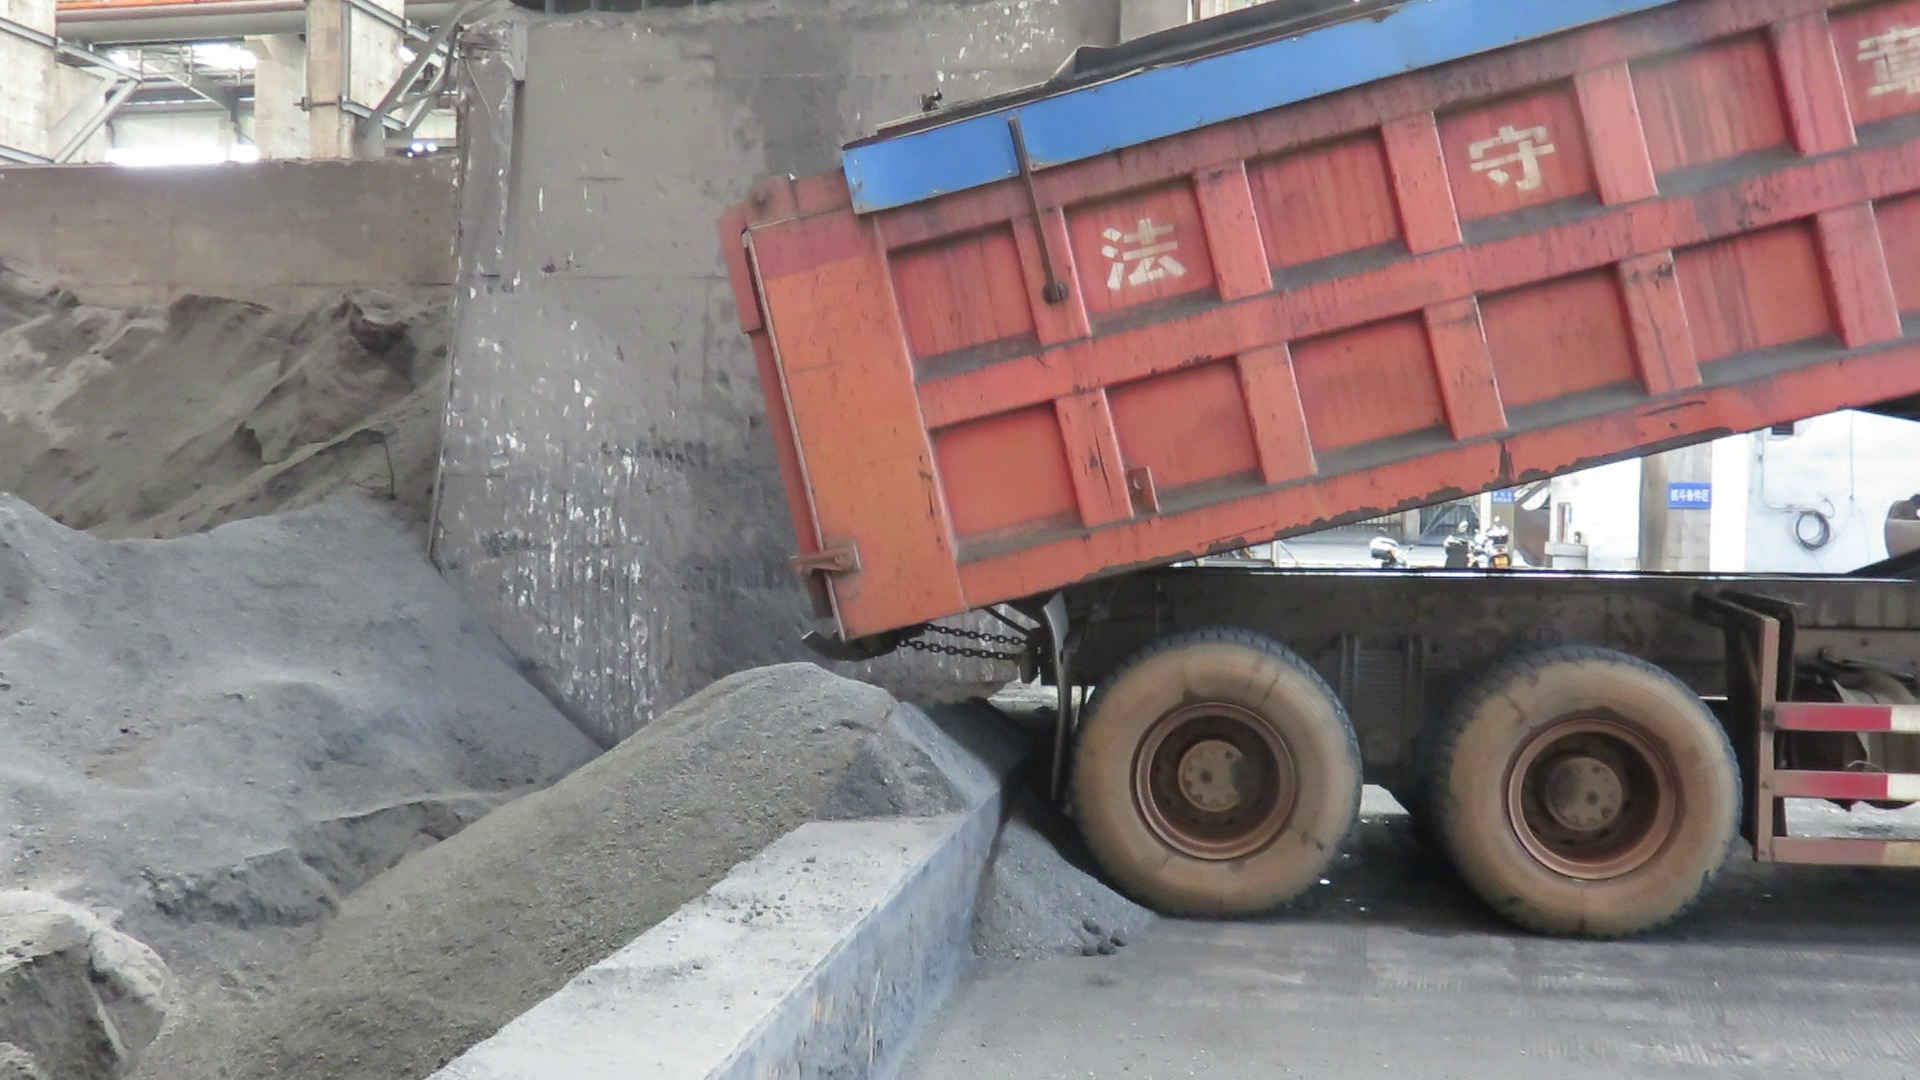truck: (696, 0, 1919, 942)
